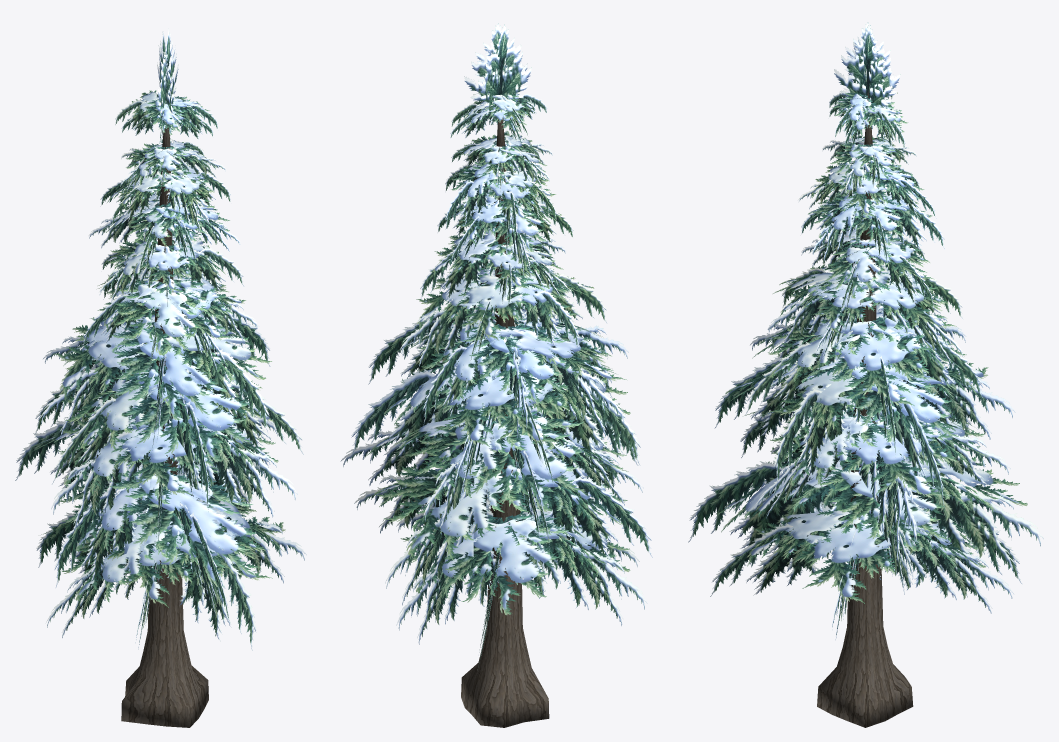
The model's file is tree_pine_snow_tall.glb.
The picture shows the model from 3 angles, left to right: view 1: azimuth 30°, elevation 25°; view 2: azimuth 150°, elevation 25°; view 3: azimuth 270°, elevation 25°; orthographic projection.
Visible parts, largest first — view 1: tree_pine_snow_tall; view 2: tree_pine_snow_tall; view 3: tree_pine_snow_tall.
Boxes of the visible parts, x1,y1,x2,y2 form: tree_pine_snow_tall: (15, 29, 306, 727); tree_pine_snow_tall: (340, 23, 652, 727); tree_pine_snow_tall: (688, 22, 1043, 727).
Bounding box in the file's own units: 14.2 × 33.69 × 15.95.
Materials: 2 (2 with a texture image).
